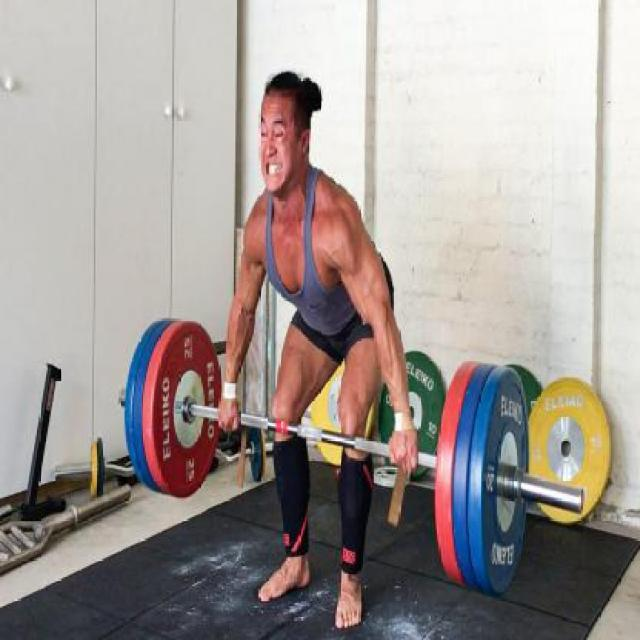Barbell: (570, 466, 595, 528)
